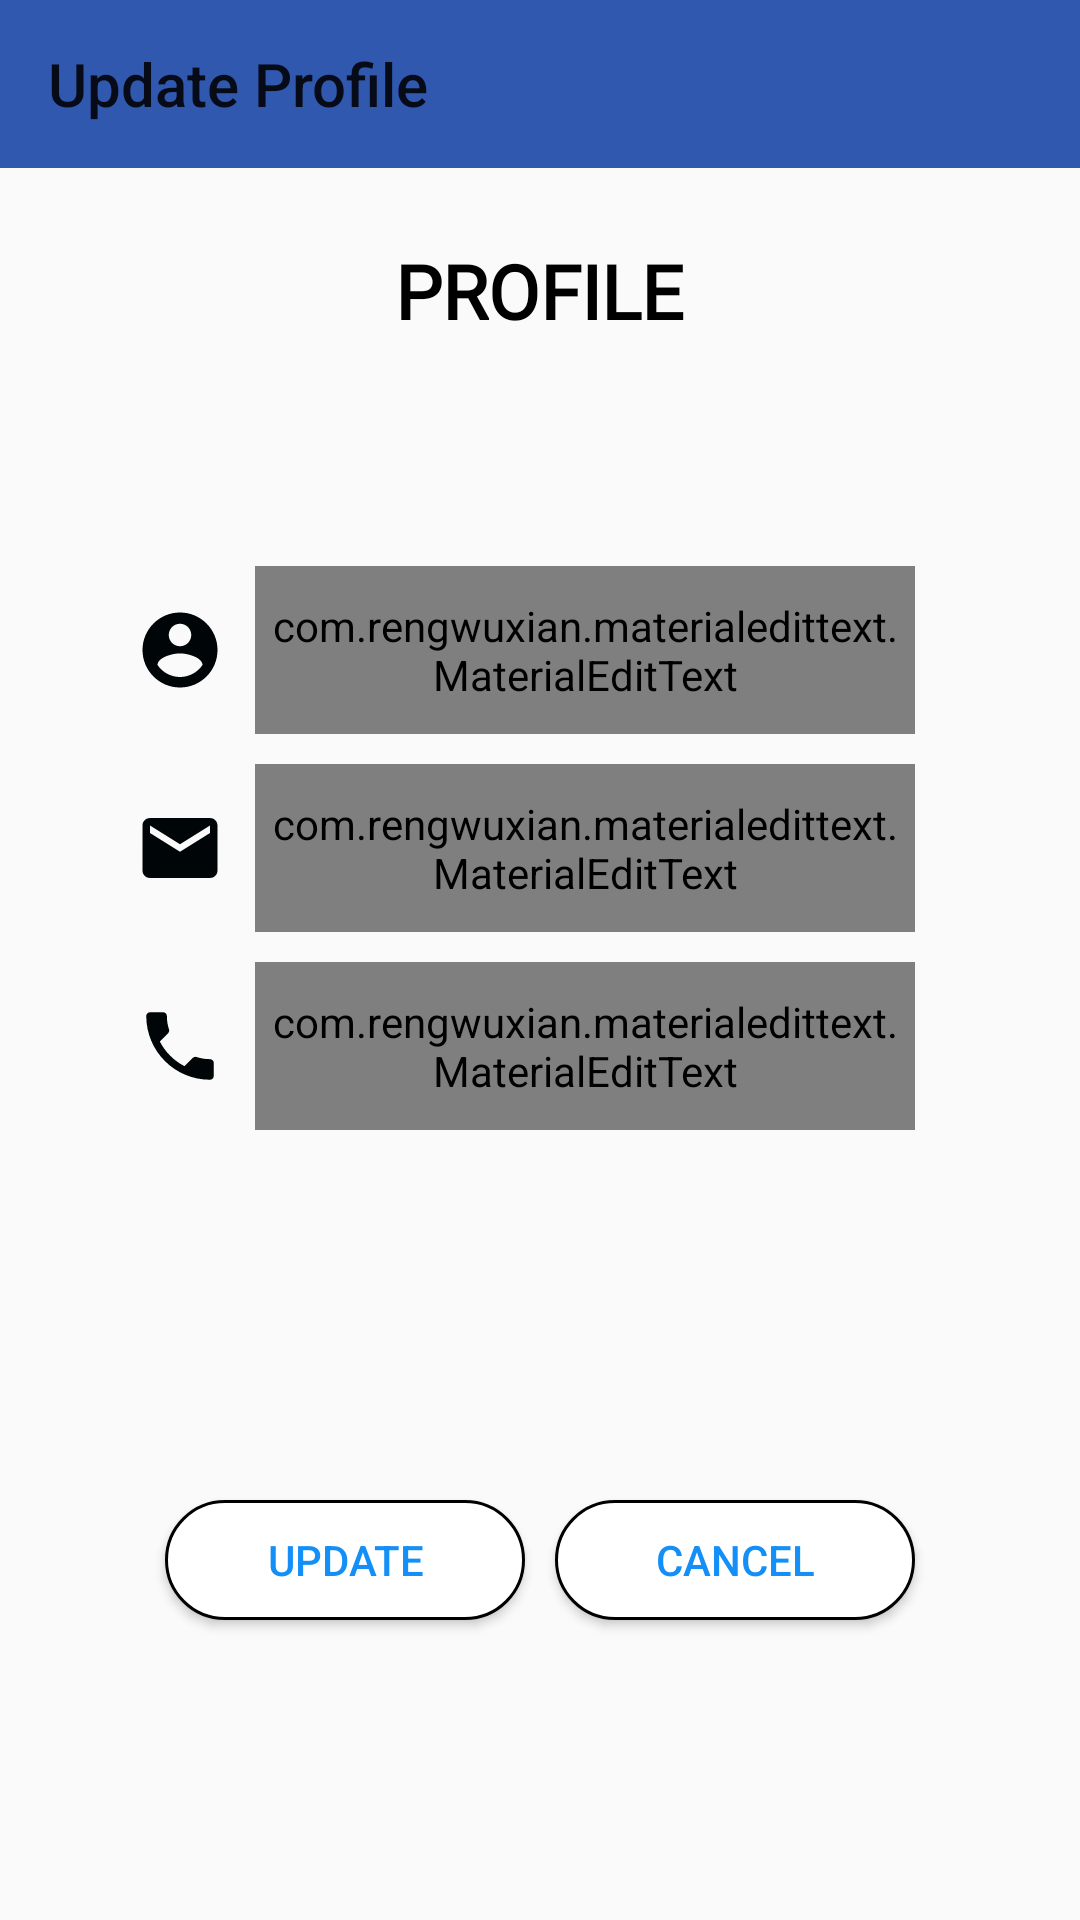

Named icons in this screenshot (1080 × 1920) and their centers, point (x, y):
account circle: point (180, 650)
